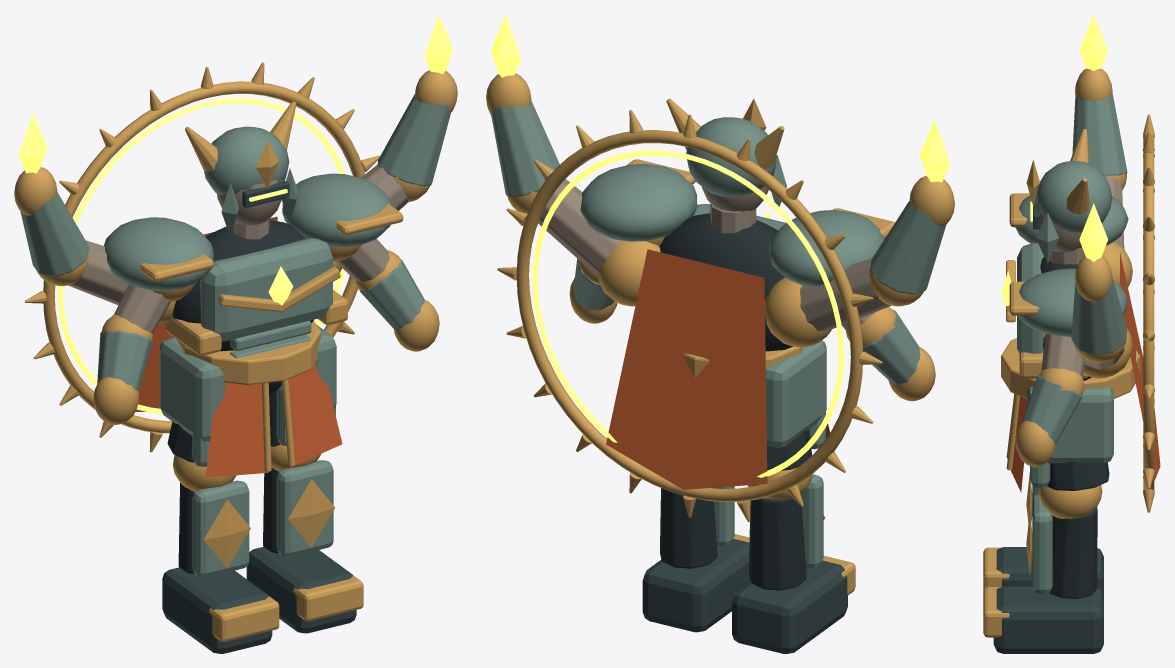
File: sentinel.fbx
3 views of the same model, side by side, from view 1: azimuth 30°, elevation 25°; view 2: azimuth 150°, elevation 25°; view 3: azimuth 270°, elevation 25° (orthographic). The views are drawn at different scales.
Visible parts, largest first — view 1: sentinel__Bronze.001, sentinel__Bronze, sentinel__Obsidian, sentinel__Cloth, sentinel__Sandstone, sentinel__Leather, sentinel__Divine_fire; view 2: sentinel__Bronze.001, sentinel__Bronze, sentinel__Cloth, sentinel__Leather, sentinel__Obsidian, sentinel__Sandstone, sentinel__Divine_fire; view 3: sentinel__Bronze.001, sentinel__Bronze, sentinel__Obsidian, sentinel__Leather, sentinel__Sandstone, sentinel__Divine_fire, sentinel__Cloth.
Part boxes in pixels (x1=…): sentinel__Bronze.001: x1=20, y1=94, x2=451, y2=577; sentinel__Bronze: x1=14, y1=62, x2=457, y2=641; sentinel__Obsidian: x1=162, y1=181, x2=356, y2=653; sentinel__Cloth: x1=135, y1=216, x2=342, y2=477; sentinel__Sandstone: x1=68, y1=164, x2=408, y2=333; sentinel__Leather: x1=167, y1=220, x2=313, y2=573; sentinel__Divine_fire: x1=18, y1=14, x2=453, y2=414; sentinel__Bronze.001: x1=491, y1=101, x2=946, y2=568; sentinel__Bronze: x1=486, y1=73, x2=954, y2=595; sentinel__Cloth: x1=606, y1=249, x2=829, y2=489; sentinel__Leather: x1=659, y1=213, x2=811, y2=590; sentinel__Obsidian: x1=642, y1=155, x2=847, y2=653; sentinel__Sandstone: x1=538, y1=179, x2=891, y2=331; sentinel__Divine_fire: x1=491, y1=14, x2=950, y2=477; sentinel__Bronze.001: x1=1015, y1=92, x2=1128, y2=593; sentinel__Bronze: x1=983, y1=68, x2=1154, y2=637; sentinel__Obsidian: x1=993, y1=199, x2=1103, y2=653; sentinel__Leather: x1=1040, y1=257, x2=1109, y2=598; sentinel__Sandstone: x1=1035, y1=176, x2=1124, y2=376; sentinel__Divine_fire: x1=1001, y1=14, x2=1108, y2=306; sentinel__Cloth: x1=1011, y1=252, x2=1160, y2=492.
Size of the model in its own units: 5.1 by 1.87 by 6.
